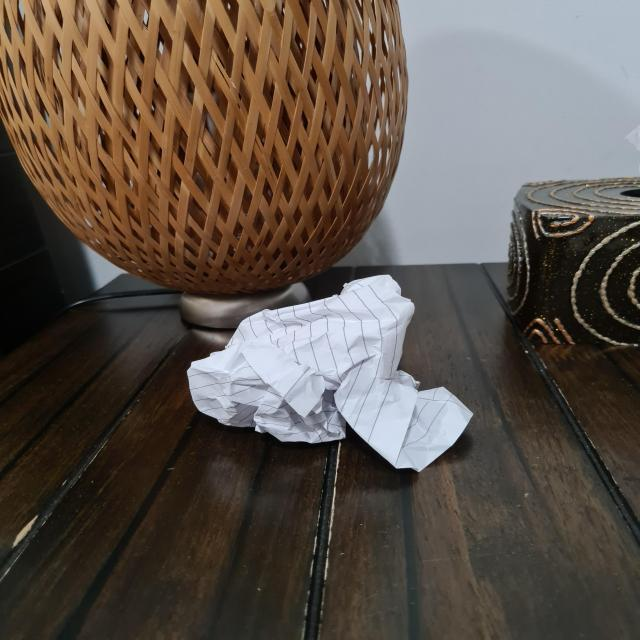trash: (178, 264, 470, 472)
